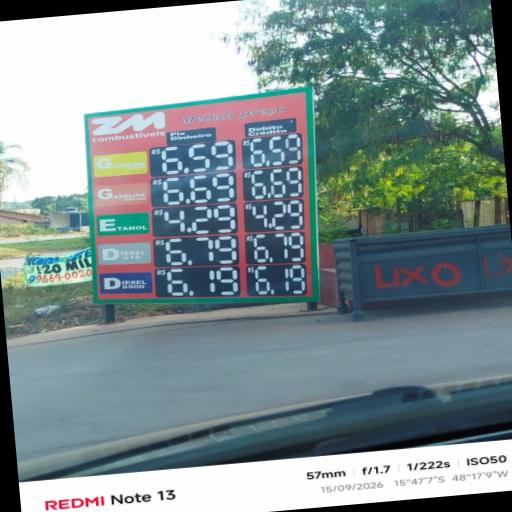ETANOL: (98, 213, 149, 237)
GASOLINA AD: (92, 182, 150, 208)
GASOLINA C: (94, 152, 149, 176)
S10: (96, 242, 152, 266)
S500: (99, 272, 152, 294)
placa: (86, 98, 244, 302)
preco: (159, 139, 236, 177), (161, 171, 236, 206), (166, 265, 241, 297), (161, 204, 238, 235), (164, 233, 237, 265)
